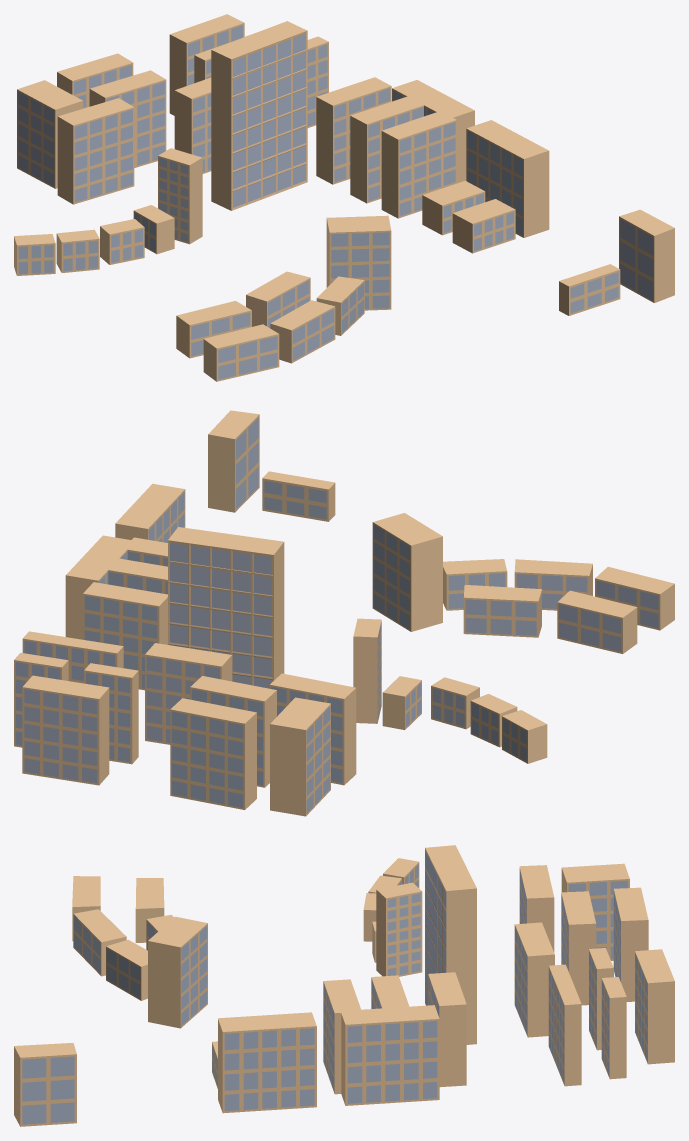
The picture shows the model from 3 angles, top to bottom: view 1: azimuth 30°, elevation 25°; view 2: azimuth 150°, elevation 25°; view 3: azimuth 270°, elevation 25°; orthographic projection. The views are drawn at different scales.
Visible parts, largest first — view 1: 立方体.015, 立方体.019, 立方体.010, 立方体.011, 立方体.005, 立方体.006, 立方体.020, 立方体.013, 立方体.012, 立方体.017, 立方体.029, 立方体.002 (+16 smaller); view 2: 立方体.015, 立方体.021, 立方体.018, 立方体.005, 立方体.020, 立方体.013, 立方体.016, 立方体.006, 立方体.019, 立方体.030, 立方体.001, 立方体.022 (+16 smaller); view 3: 立方体.010, 立方体.014, 立方体.015, 立方体.005, 立方体.006, 立方体.029, 立方体.021, 立方体.016, 立方体.024, 立方体.013, 立方体.018, 立方体.017 (+12 smaller).
Boxes of the visible parts, bbox=[...] form: 立方体.015: bbox=[211, 21, 307, 210]; 立方体.019: bbox=[57, 98, 134, 204]; 立方体.010: bbox=[466, 120, 549, 237]; 立方体.011: bbox=[381, 111, 456, 218]; 立方体.005: bbox=[326, 215, 391, 310]; 立方体.006: bbox=[619, 209, 674, 302]; 立方体.020: bbox=[17, 80, 83, 188]; 立方体.013: bbox=[316, 77, 391, 184]; 立方体.012: bbox=[350, 96, 424, 203]; 立方体.017: bbox=[89, 70, 166, 167]; 立方体.029: bbox=[158, 148, 202, 244]; 立方体.002: bbox=[203, 324, 279, 381]; 立方体.015: bbox=[168, 527, 284, 688]; 立方体.021: bbox=[22, 675, 109, 785]; 立方体.018: bbox=[170, 698, 256, 809]; 立方体.005: bbox=[372, 513, 442, 631]; 立方体.020: bbox=[270, 697, 330, 816]; 立方体.013: bbox=[83, 582, 167, 690]; 立方体.016: bbox=[145, 643, 231, 744]; 立方体.006: bbox=[208, 410, 259, 512]; 立方体.019: bbox=[269, 673, 356, 785]; 立方体.030: bbox=[557, 590, 637, 653]; 立方体.001: bbox=[463, 585, 541, 637]; 立方体.022: bbox=[84, 663, 138, 764]; 立方体.010: bbox=[218, 1012, 316, 1113]; 立方体.014: bbox=[341, 1005, 439, 1105]; 立方体.015: bbox=[425, 845, 476, 1044]; 立方体.005: bbox=[148, 916, 207, 1028]; 立方体.006: bbox=[14, 1043, 76, 1126]; 立方体.029: bbox=[376, 882, 422, 976]; 立方体.021: bbox=[635, 949, 674, 1064]; 立方体.016: bbox=[514, 922, 554, 1037]; 立方体.024: bbox=[548, 964, 581, 1086]; 立方体.013: bbox=[428, 972, 466, 1087]; 立方体.018: bbox=[613, 887, 648, 1001]; 立方体.017: bbox=[561, 891, 596, 1005].
Size of the model in its own units: 15.46 by 4.91 by 18.2.
